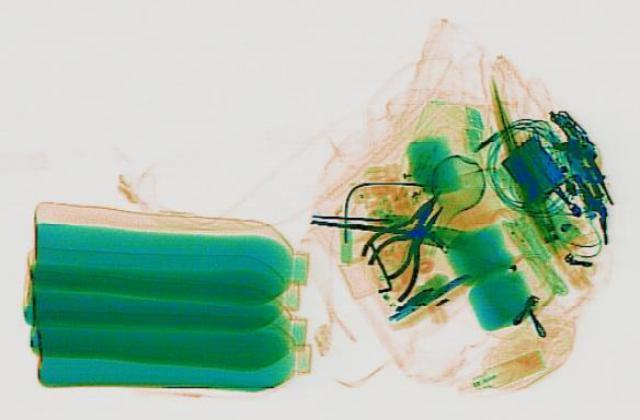Pliers: (344, 194, 472, 300), (342, 182, 462, 280)
